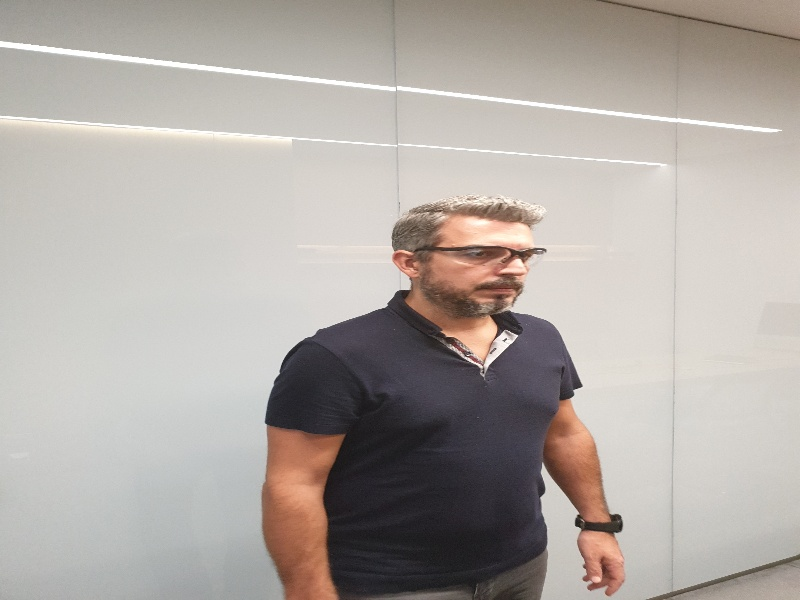Gozluk: (415, 245, 547, 269)
